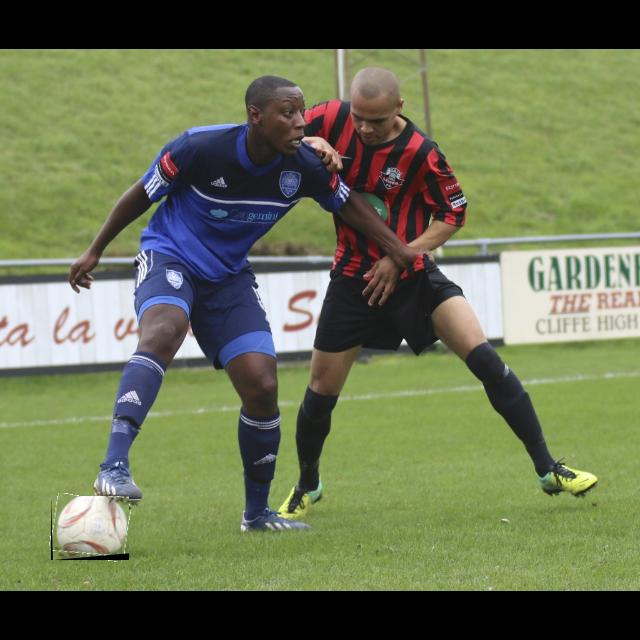Football: (51, 496, 129, 560)
